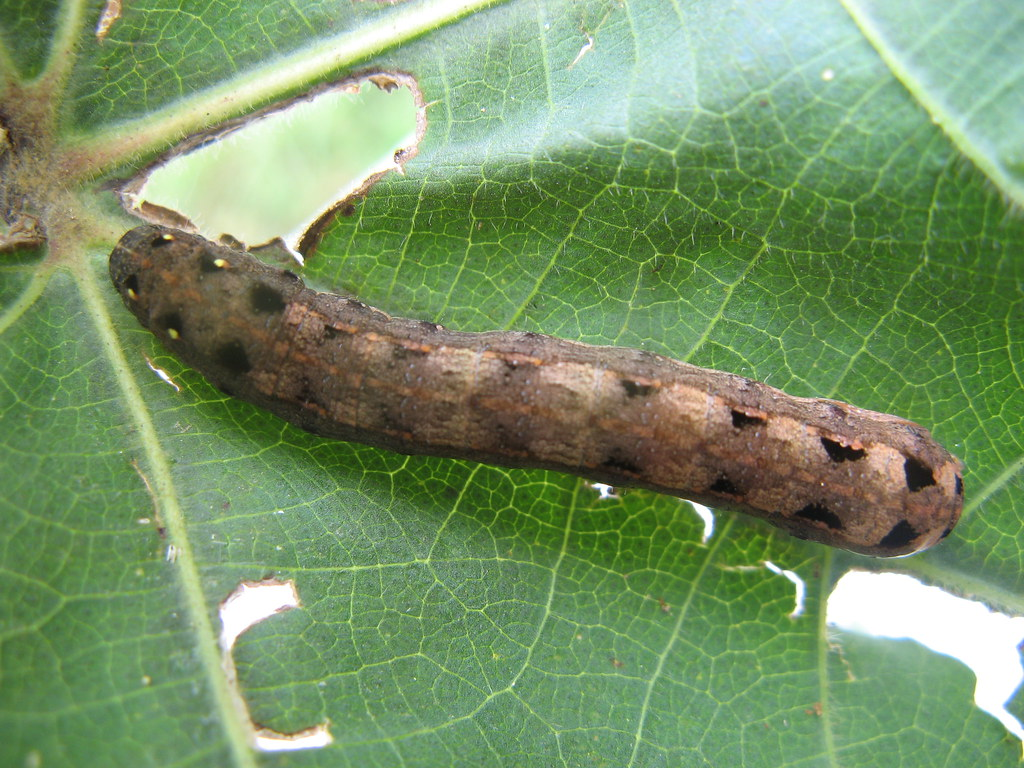Armyworm: (110, 207, 976, 601)
